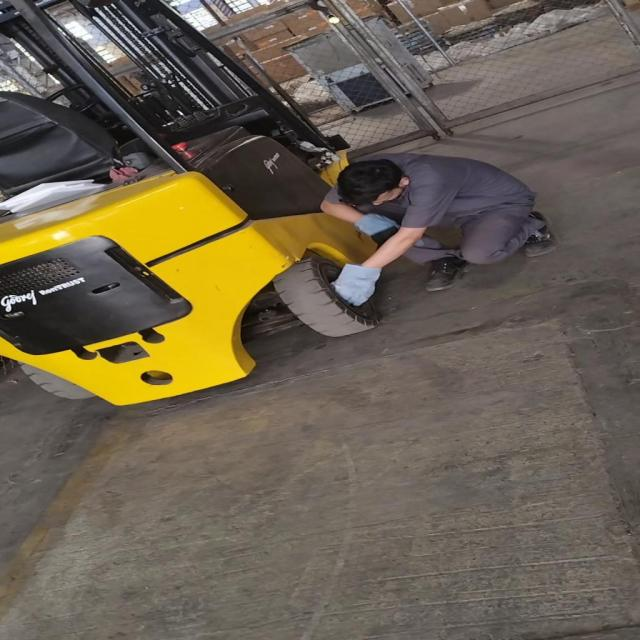Gloves-Detection: (330, 261, 376, 303), (349, 210, 397, 247)
